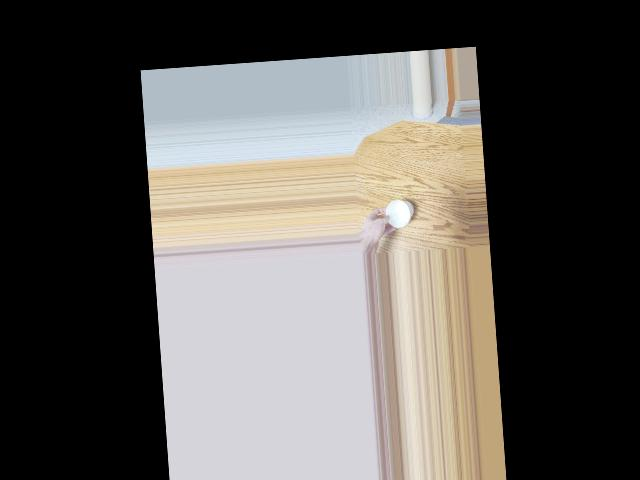cotage: (379, 194, 414, 233)
